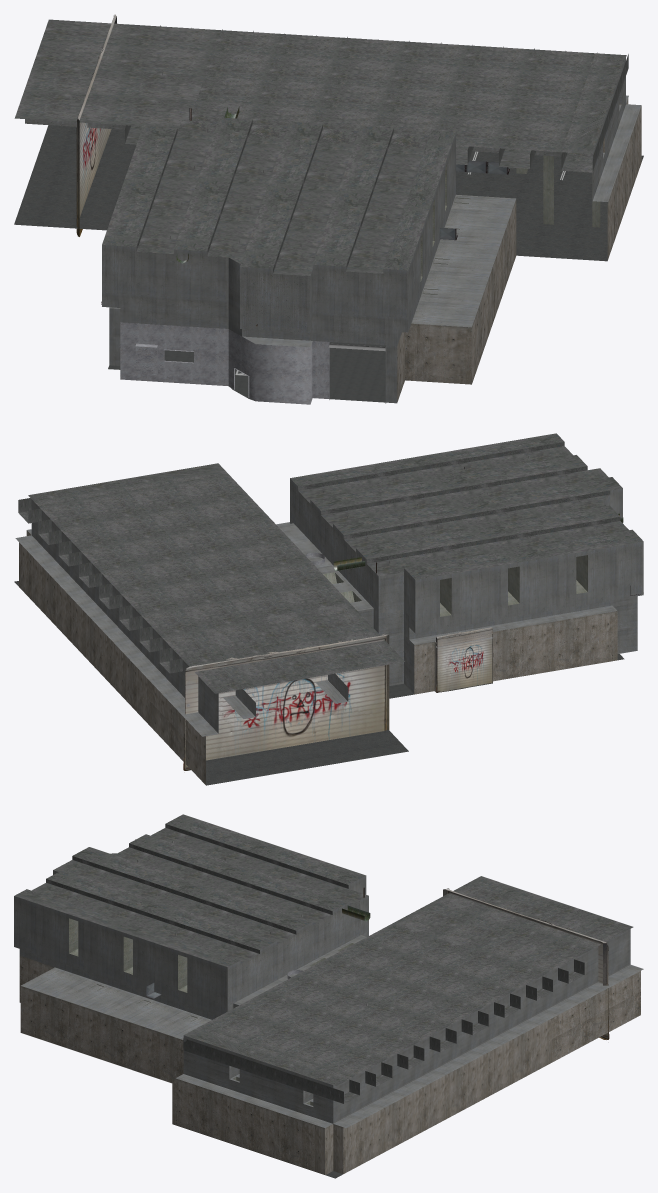
Rendered from ShadyGarage.glb.
3 renders of one model, top to bottom at view 1: azimuth 30°, elevation 25°; view 2: azimuth 150°, elevation 25°; view 3: azimuth 270°, elevation 25°, orthographic. The views are drawn at different scales.
Parts seen in each view (by area): view 1: ep_wall0.002, ep_wall0.001, ep_con1, ep_floor1, cor02, ep_con0, ep_con1.001, Object_2.001, ep_con0.001, ep_con2.002, cor15; view 2: ep_wall0.002, ep_wall0.001, ep_con1, Object_2.001, ep_con1.001, ep_con0.001, ep_con0, ep_floor1, Object_2, ep_con2.001; view 3: ep_wall0.002, ep_wall0.001, ep_con1, ep_con0.001, ep_con1.001, ep_con0, Object_2.001, ep_con2.001.
Part boxes in pixels (<box>): ep_wall0.002: <box>14,19,628,172</box>; ep_wall0.001: <box>102,117,455,275</box>; ep_con1: <box>102,133,515,403</box>; ep_floor1: <box>14,125,643,402</box>; cor02: <box>120,322,329,404</box>; ep_con0: <box>397,199,516,401</box>; ep_con1.001: <box>25,58,641,201</box>; Object_2.001: <box>76,14,116,236</box>; ep_con0.001: <box>603,98,641,260</box>; ep_con2.002: <box>516,155,600,227</box>; cor15: <box>101,160,509,302</box>; ep_wall0.002: <box>18,463,404,693</box>; ep_wall0.001: <box>290,433,643,579</box>; ep_con1: <box>276,478,643,693</box>; Object_2.001: <box>183,634,389,770</box>; ep_con1.001: <box>15,499,348,736</box>; ep_con0.001: <box>19,530,205,784</box>; ep_con0: <box>414,611,617,694</box>; ep_floor1: <box>14,581,624,785</box>; Object_2: <box>436,627,493,692</box>; ep_con2.001: <box>440,555,587,616</box>; ep_wall0.002: <box>183,876,633,1103</box>; ep_wall0.001: <box>14,814,368,967</box>; ep_con1: <box>14,870,368,1039</box>; ep_con0.001: <box>172,971,640,1174</box>; ep_con1.001: <box>176,929,643,1128</box>; ep_con0: <box>19,956,183,1083</box>; Object_2.001: <box>443,888,609,1039</box>; ep_con2.001: <box>69,918,187,992</box>.
Bounding box in the file's own units: 133 × 30.39 × 138.
36 materials, 36 textured.
